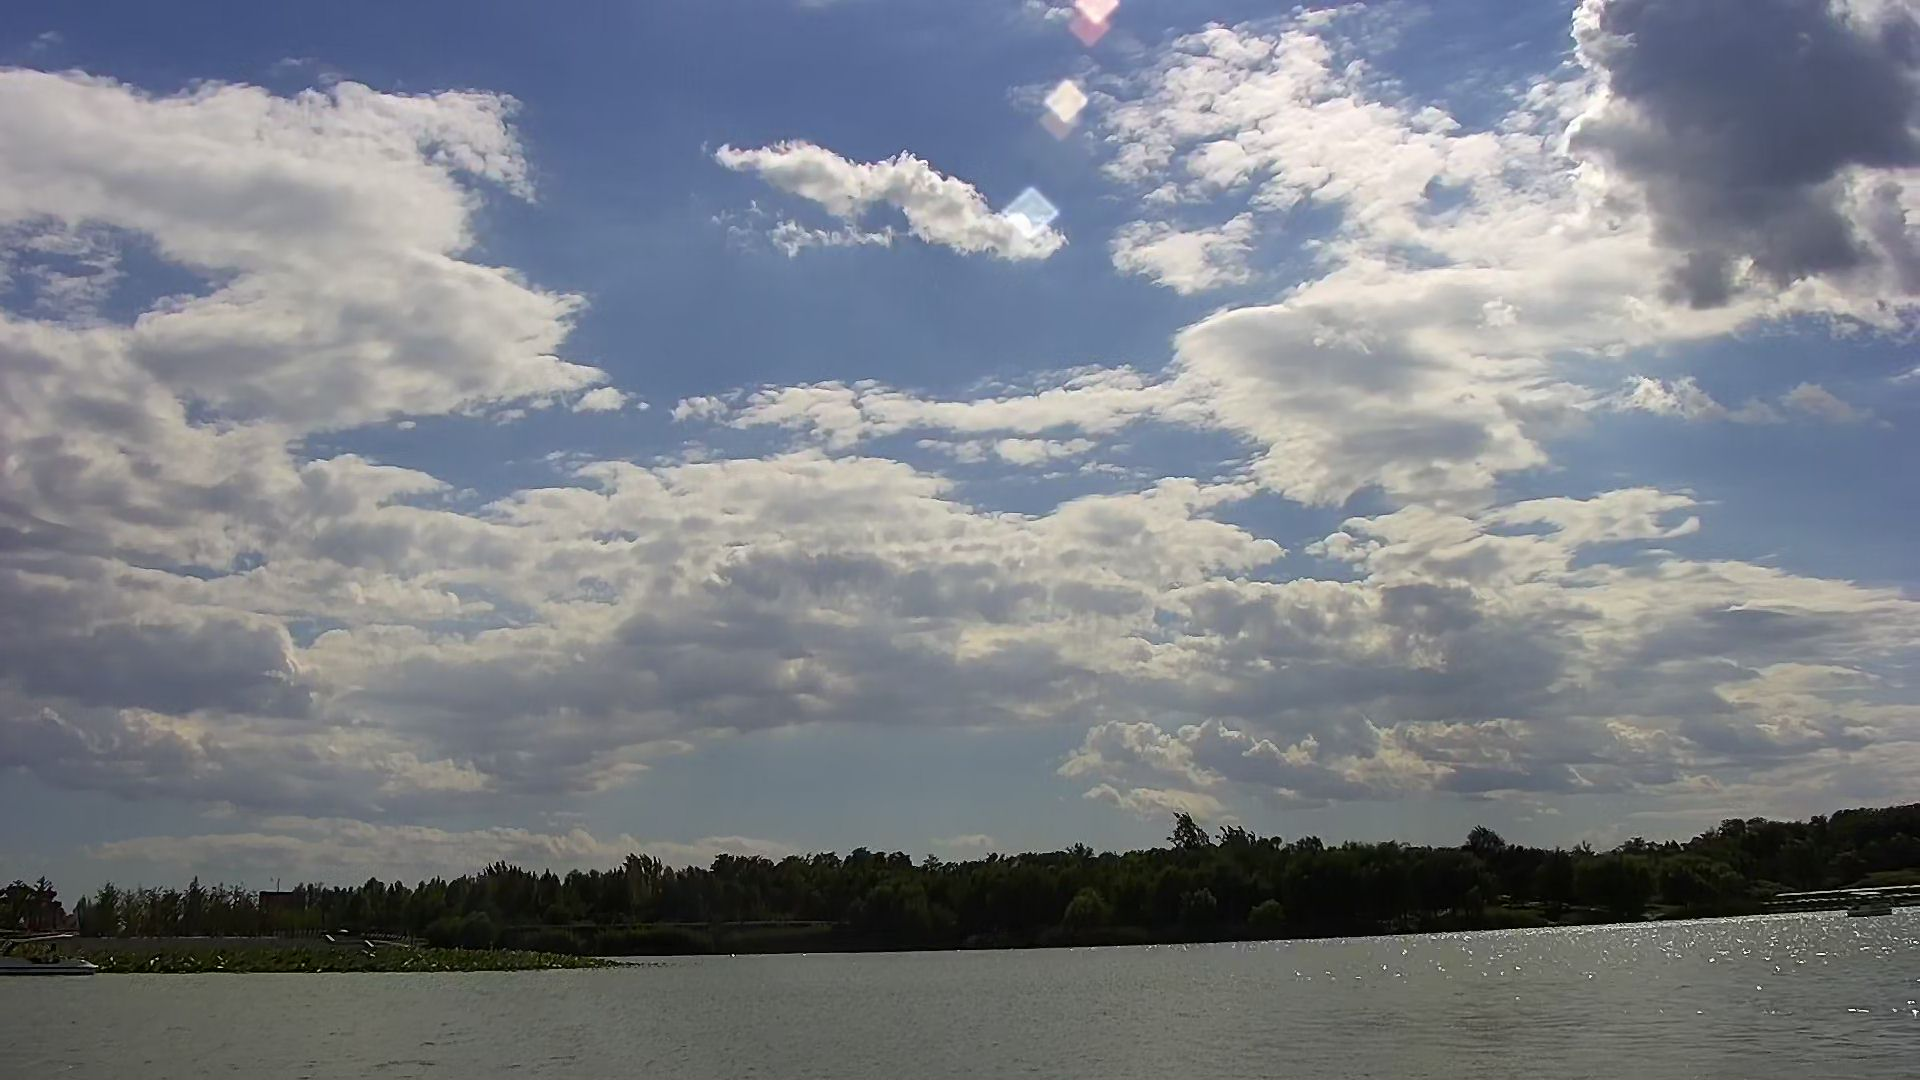boat: (1, 932, 104, 982)
harbor: (1776, 874, 1920, 920)
